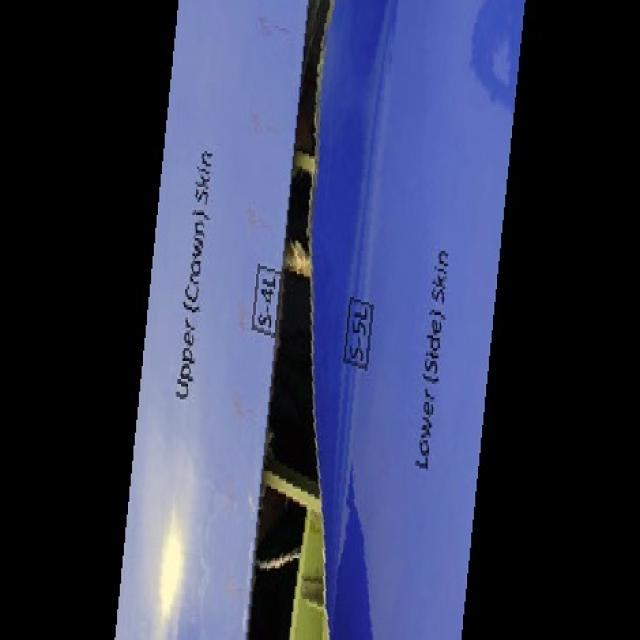crack: (245, 4, 345, 639)
